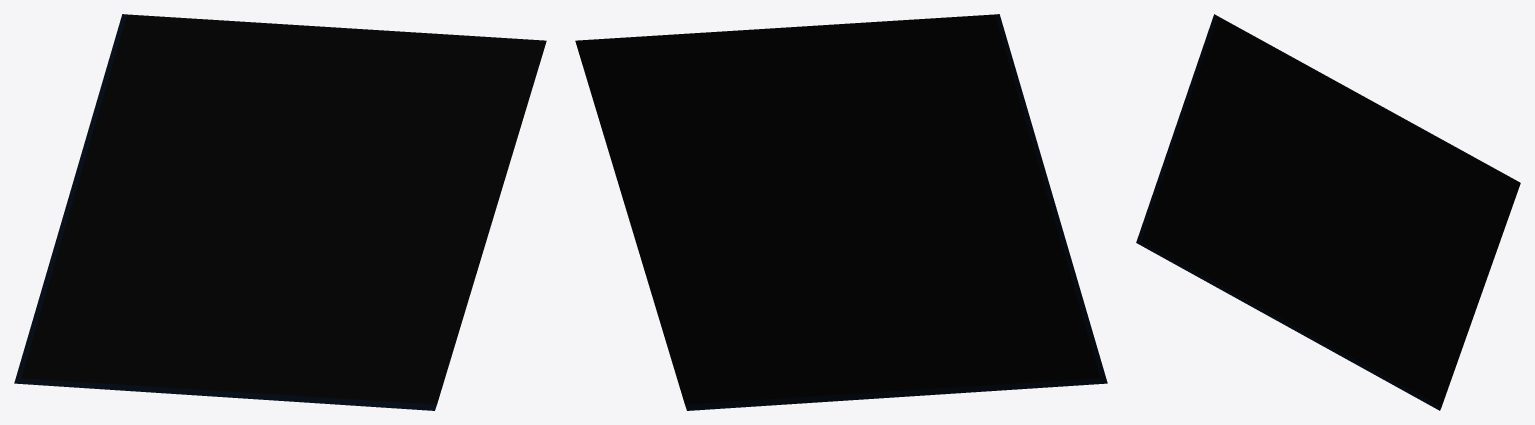
Rendered from basePhotosPicB.glb.
3 renders of one model, left to right at view 1: azimuth 30°, elevation 25°; view 2: azimuth 150°, elevation 25°; view 3: azimuth 330°, elevation 25°, orthographic. The views are drawn at different scales.
Visible parts, largest first — view 1: basePhotosPicB; view 2: basePhotosPicB; view 3: basePhotosPicB.
Part boxes in pixels (x1,y1,x2,y2): basePhotosPicB: [14, 14, 546, 410]; basePhotosPicB: [575, 14, 1107, 410]; basePhotosPicB: [1136, 14, 1520, 410].
Size of the model in its own units: 0.5798 by 0.4923 by 0.
